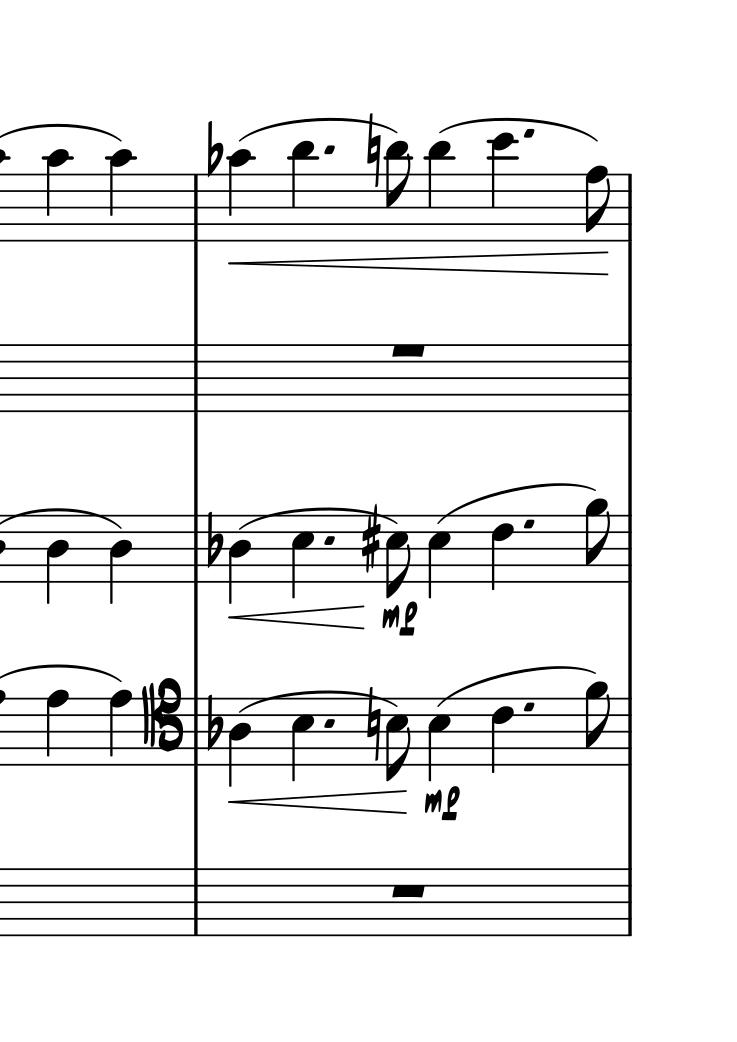4_10: (43, 148, 73, 244), (226, 149, 256, 245), (108, 148, 134, 244)
4_11: (426, 140, 456, 244), (288, 141, 318, 243)
4_12: (488, 132, 518, 243)
4_4: (45, 515, 73, 608), (109, 514, 137, 606), (227, 696, 253, 787), (227, 515, 251, 605)
4_5: (291, 698, 316, 784), (426, 698, 451, 781), (428, 513, 452, 599), (291, 513, 315, 599)
4_6: (490, 696, 515, 775), (490, 514, 514, 593)
4_8: (106, 689, 133, 767), (45, 688, 71, 767)
8_11: (384, 141, 412, 245)
8_5: (384, 513, 411, 601), (385, 697, 411, 783)
8_8: (585, 165, 611, 242)
8_9: (584, 681, 611, 769), (583, 498, 610, 585)
Crescendo_hairpin: (228, 250, 610, 278), (229, 789, 408, 817), (228, 603, 365, 632)
Flat: (203, 690, 223, 752), (205, 511, 225, 567), (206, 120, 223, 175)
Natural: (366, 113, 382, 189), (365, 686, 381, 761)
Rests1: (388, 340, 434, 361), (389, 880, 427, 900)
Sharp: (362, 504, 380, 573)
Single_barline: (187, 515, 205, 583), (187, 344, 205, 411), (188, 698, 205, 766), (187, 868, 204, 935), (620, 869, 637, 936), (187, 175, 204, 241), (621, 344, 637, 412), (621, 174, 637, 241), (621, 698, 637, 763), (621, 515, 637, 580)
Slur: (435, 480, 599, 524), (438, 665, 597, 706), (236, 689, 397, 715), (437, 115, 597, 141), (235, 506, 398, 531), (239, 119, 398, 140), (1, 506, 120, 531), (1, 123, 123, 144), (1, 664, 120, 683)
Tensor_Cclef: (141, 677, 183, 769)
dot: (321, 142, 338, 158), (523, 517, 537, 533), (321, 717, 338, 730), (521, 700, 536, 714), (320, 535, 337, 547)
mp: (381, 599, 420, 637), (423, 785, 461, 821)
